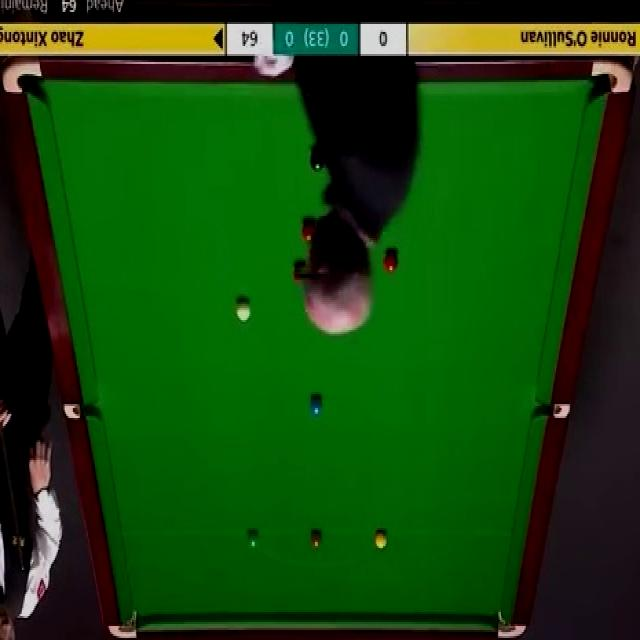black-ball: (309, 150, 326, 172)
blue-ball: (309, 394, 323, 418)
brown-ball: (310, 530, 324, 550)
green-ball: (247, 531, 260, 549)
red-ball: (383, 252, 399, 276), (302, 219, 314, 242)
white-ball: (236, 298, 252, 323)
yellow-ball: (375, 529, 387, 551)
